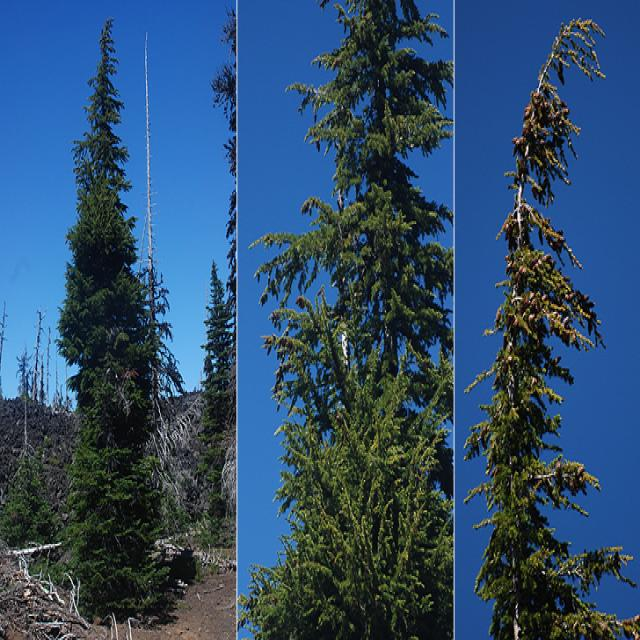Tsuga mertensiana: (462, 0, 640, 640), (250, 0, 449, 505), (54, 14, 178, 622)
